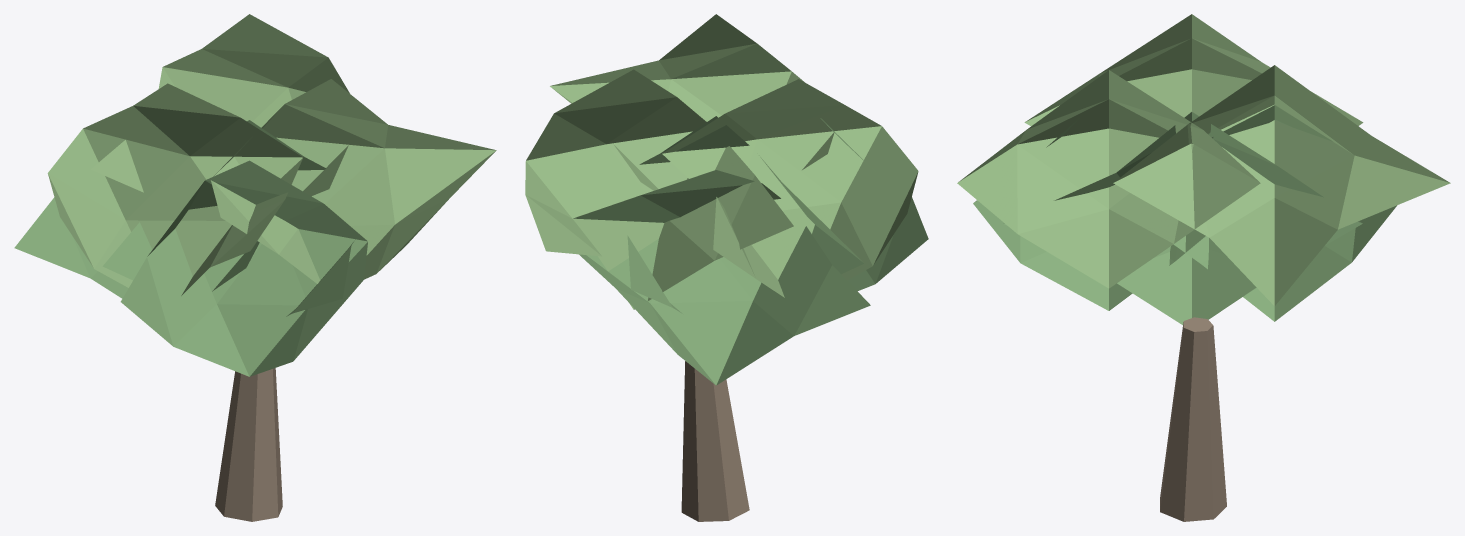
File: broadleaf_v35.glb
3 renders of one model, left to right at view 1: azimuth 30°, elevation 25°; view 2: azimuth 150°, elevation 25°; view 3: azimuth 270°, elevation 25°, orthographic.
Parts seen in each view (by area): view 1: lod0; view 2: lod0; view 3: lod0.
Part boxes in pixels (x1,y1,x2,y2): lod0: (14,14,496,521); lod0: (525,14,928,521); lod0: (957,14,1450,521).
Size of what is drawn, in the model's own units: 4.78 by 5.21 by 5.04.
